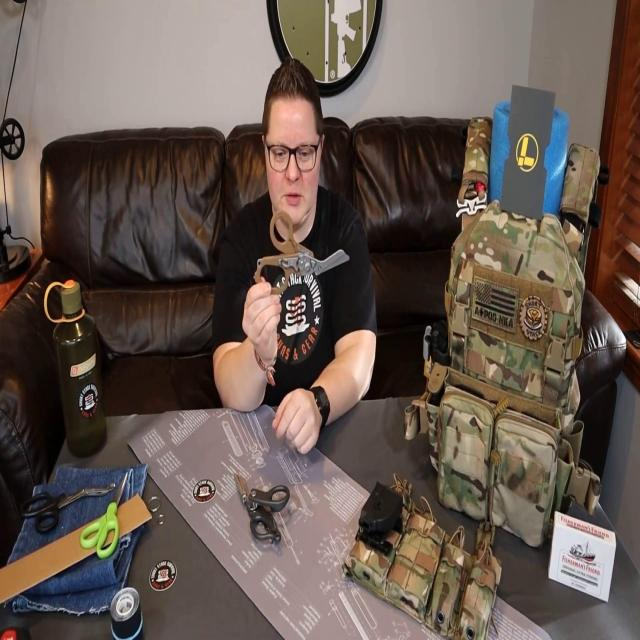scissor: (255, 210, 350, 296), (19, 480, 115, 535), (80, 470, 128, 560), (233, 472, 290, 544)
